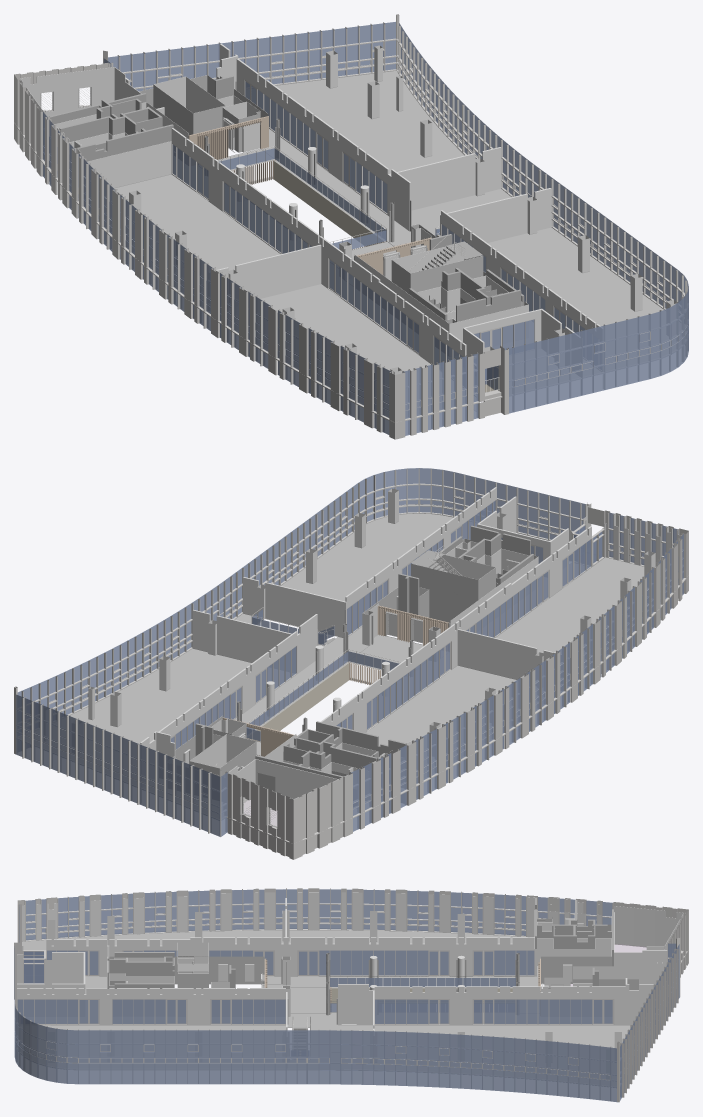
3 views of the same model, one above another, from view 1: azimuth 30°, elevation 25°; view 2: azimuth 150°, elevation 25°; view 3: azimuth 270°, elevation 25° (orthographic). The views are drawn at different scales.
Visible parts, largest first — view 1: A6-4F; view 2: A6-4F; view 3: A6-4F.
Part boxes in pixels (x1=…): A6-4F: x1=14, y1=14, x2=688, y2=439; A6-4F: x1=14, y1=468, x2=688, y2=859; A6-4F: x1=14, y1=888, x2=688, y2=1102.
Bounding box in the file's own units: 36.39 × 7.55 × 64.74.
